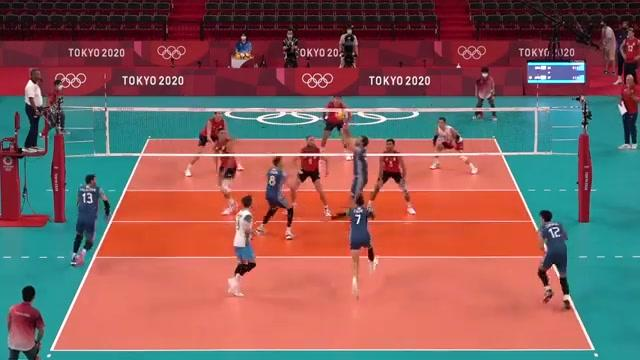ball: (336, 109, 350, 123)
